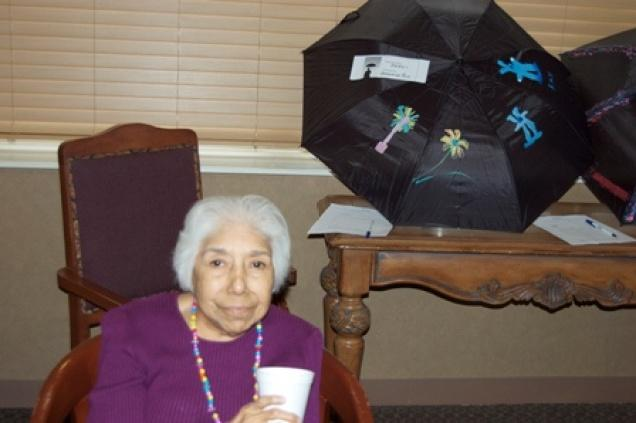Kursi: (56, 122, 201, 347)
Meja: (315, 193, 635, 356)
